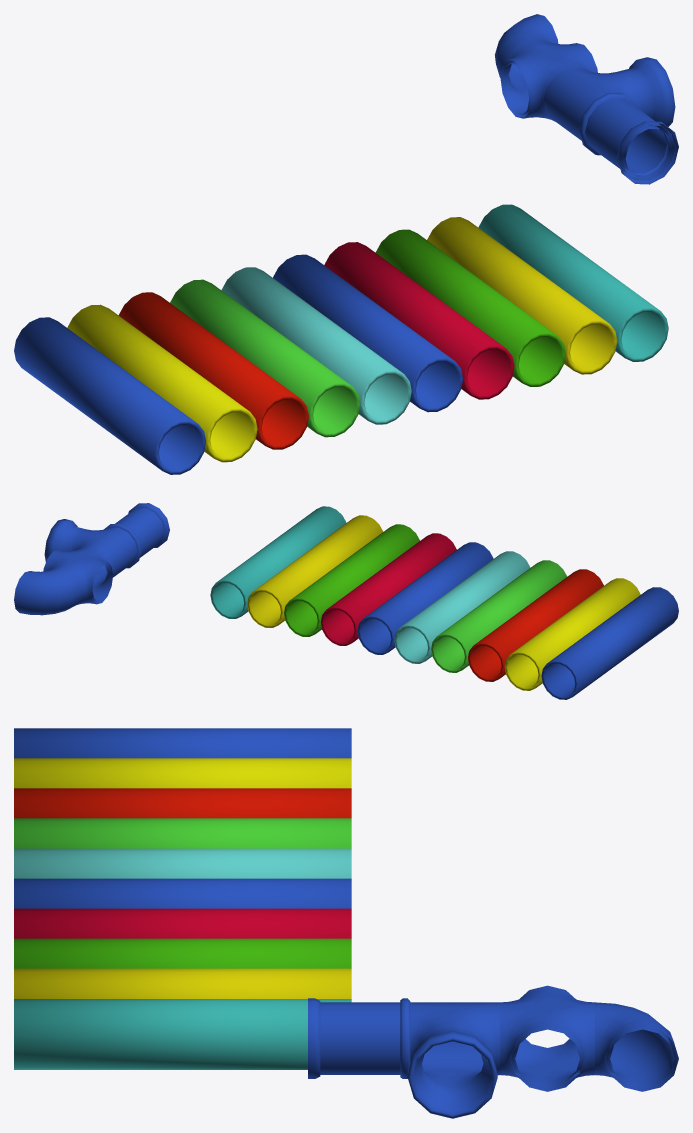
File: 3d-platformer-set2.fbx
3 renders of one model, top to bottom at view 1: azimuth 30°, elevation 25°; view 2: azimuth 150°, elevation 25°; view 3: azimuth 270°, elevation 25°, orthographic. The views are drawn at different scales.
Parts seen in each view (by area): view 1: pipe_blue_trans, pipe_trans, pipe_red, pipe_red_trans, pipe_green, pipe_yellow, pipe, pipe_yellow_trans, pipe_blue, pipe_green_trans, pipe_1, pipe_4 (+4 smaller); view 2: pipe_blue_trans, pipe_trans, pipe, pipe_blue, pipe_yellow_trans, pipe_red, pipe_yellow, pipe_green, pipe_red_trans, pipe_green_trans, pipe_5, pipe_4 (+4 smaller); view 3: pipe, pipe_green_trans, pipe_red_trans, pipe_trans, pipe_yellow_trans, pipe_blue_trans, pipe_blue, pipe_red, pipe_green, pipe_yellow, pipe_4, pipe_1 (+5 smaller).
Part boxes in pixels (left/top/right/bottom): pipe_blue_trans: left=14, top=317, right=206, bottom=474; pipe_trans: left=221, top=267, right=411, bottom=424; pipe_red: left=324, top=242, right=514, bottom=399; pipe_red_trans: left=118, top=292, right=308, bottom=449; pipe_green: left=375, top=229, right=565, bottom=386; pipe_yellow: left=427, top=217, right=617, bottom=374; pipe: left=478, top=204, right=668, bottom=361; pipe_yellow_trans: left=67, top=304, right=257, bottom=462; pipe_blue: left=273, top=254, right=462, bottom=412; pipe_green_trans: left=170, top=279, right=360, bottom=437; pipe_1: left=585, top=98, right=674, bottom=180; pipe_4: left=500, top=38, right=597, bottom=121; pipe_blue_trans: left=541, top=587, right=678, bottom=699; pipe_trans: left=394, top=551, right=530, bottom=663; pipe: left=210, top=506, right=346, bottom=618; pipe_blue: left=357, top=542, right=493, bottom=654; pipe_yellow_trans: left=504, top=578, right=640, bottom=690; pipe_red: left=320, top=533, right=456, bottom=645; pipe_yellow: left=247, top=515, right=383, bottom=627; pipe_green: left=284, top=524, right=419, bottom=636; pipe_red_trans: left=468, top=569, right=603, bottom=681; pipe_green_trans: left=431, top=560, right=567, bottom=672; pipe_5: left=14, top=568, right=82, bottom=615; pipe_4: left=43, top=547, right=112, bottom=606; pipe: left=14, top=999, right=351, bottom=1069; pipe_green_trans: left=14, top=818, right=351, bottom=848; pipe_red_trans: left=14, top=788, right=351, bottom=818; pipe_trans: left=14, top=848, right=351, bottom=878; pipe_yellow_trans: left=14, top=758, right=351, bottom=788; pipe_blue_trans: left=14, top=728, right=351, bottom=758; pipe_blue: left=14, top=878, right=351, bottom=908; pipe_red: left=14, top=908, right=351, bottom=938; pipe_green: left=14, top=938, right=351, bottom=968; pipe_yellow: left=14, top=968, right=351, bottom=998; pipe_4: left=500, top=985, right=594, bottom=1091; pipe_1: left=320, top=1002, right=400, bottom=1074.
Size of the model in its own units: 3997 by 671 by 2804.
